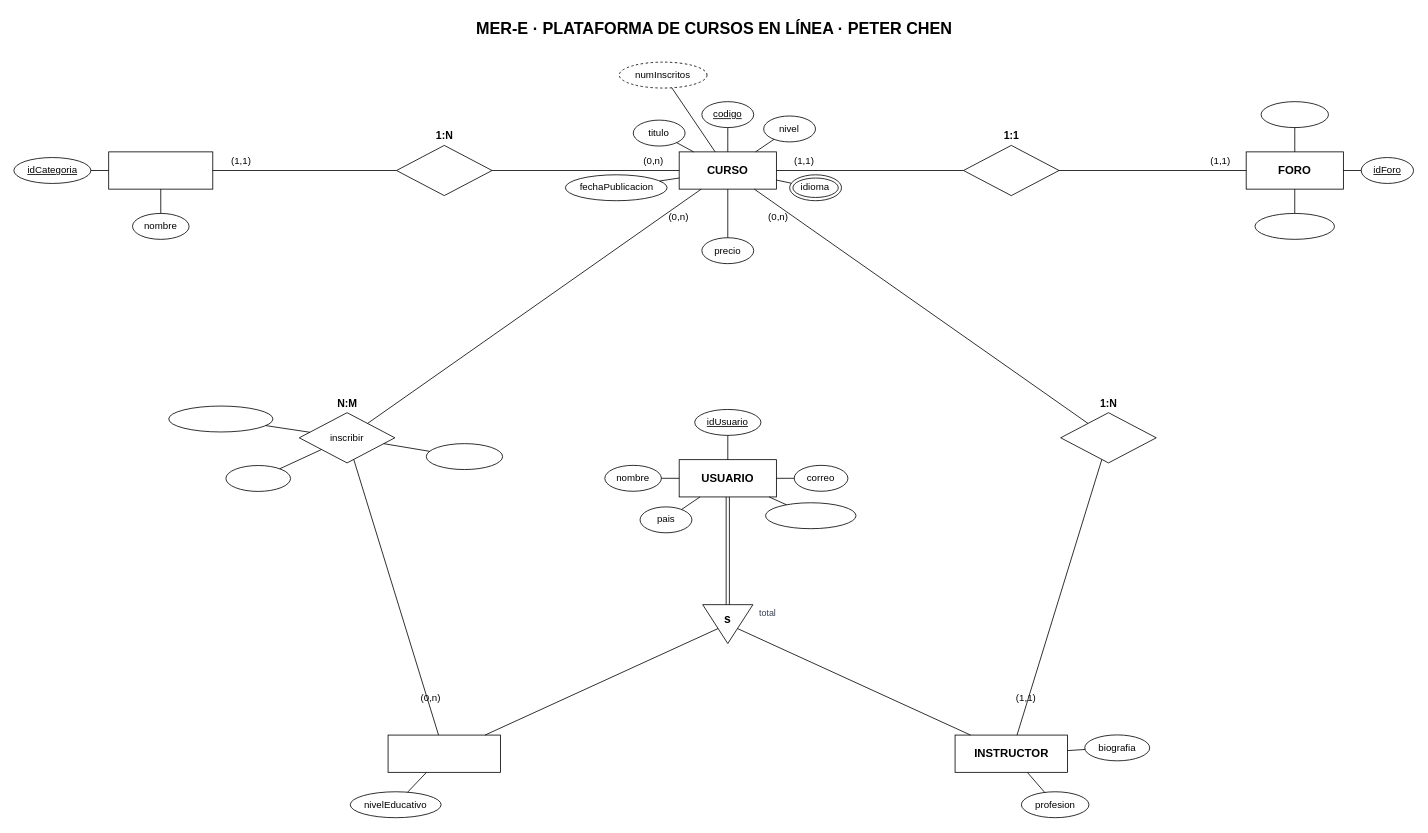
The diagram is 1428 pixels wide and 833 high, and some of its shapes have lost their labels. The shapes that lost their labels are listed below. From the top down, each one's centre as x and y in pixels, then its label:
At (1294,114): "moderado".
At (160,170): "CATEGORIA".
At (444,170): "clasificar".
At (1011,170): "tener".
At (1294,226): "nombreForo".
At (220,418): "fechaInscripcion".
At (1108,437): "dictar".
At (464,456): "calificacion".
At (258,478): "progreso".
At (810,515): "fechaRegistro".
At (443,753): "ESTUDIANTE".
